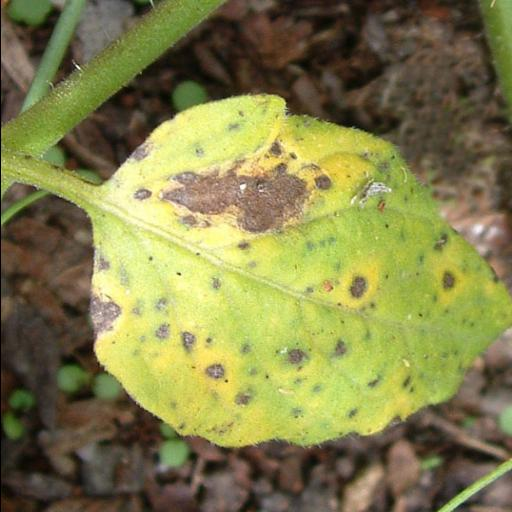disease_tomato: (85, 95, 512, 447)
